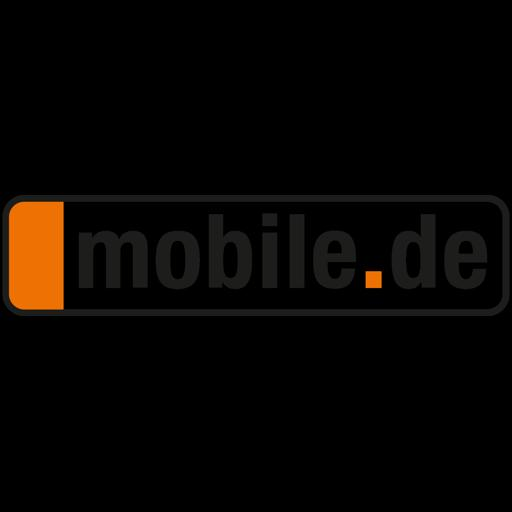Mobile-de: (0, 195, 512, 316)
